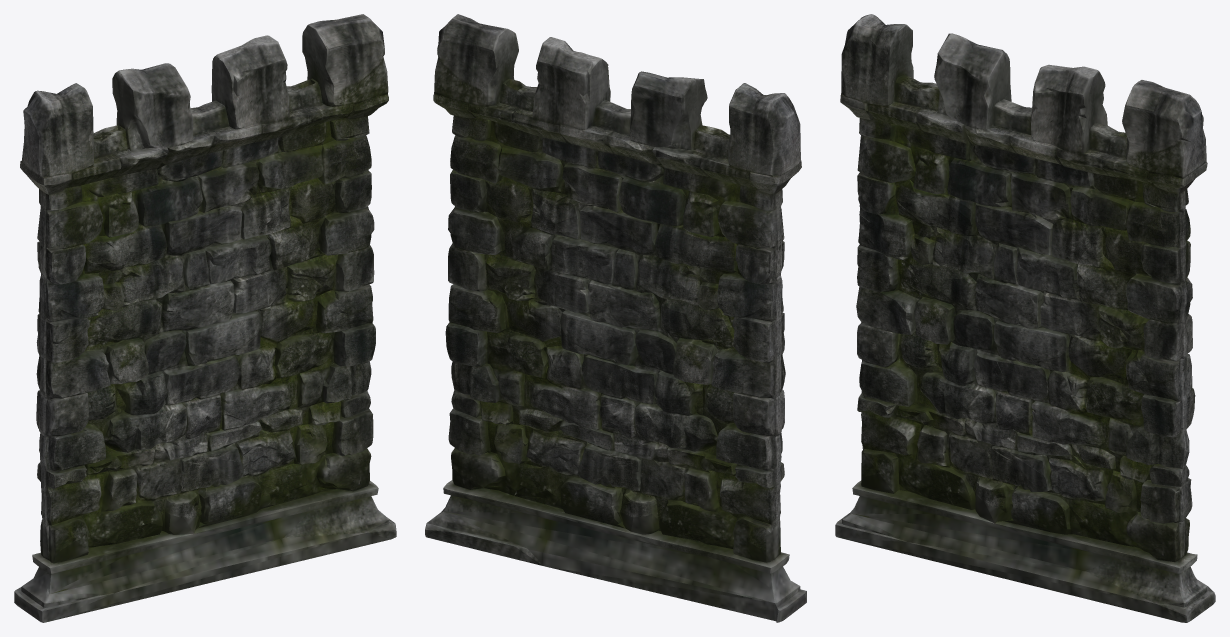
Rendered from wall.glb.
3 renders of one model, left to right at view 1: azimuth 30°, elevation 25°; view 2: azimuth 150°, elevation 25°; view 3: azimuth 330°, elevation 25°, orthographic.
Visible parts, largest first — view 1: Mesh_0; view 2: Mesh_0; view 3: Mesh_0.
Part boxes in pixels (x1,y1,x2,y2): Mesh_0: (14,14,396,622); Mesh_0: (425,14,806,622); Mesh_0: (835,14,1215,622).
Bounding box in the file's own units: 1.38 × 1.9 × 0.1974.
Materials: 1 (1 with a texture image).
